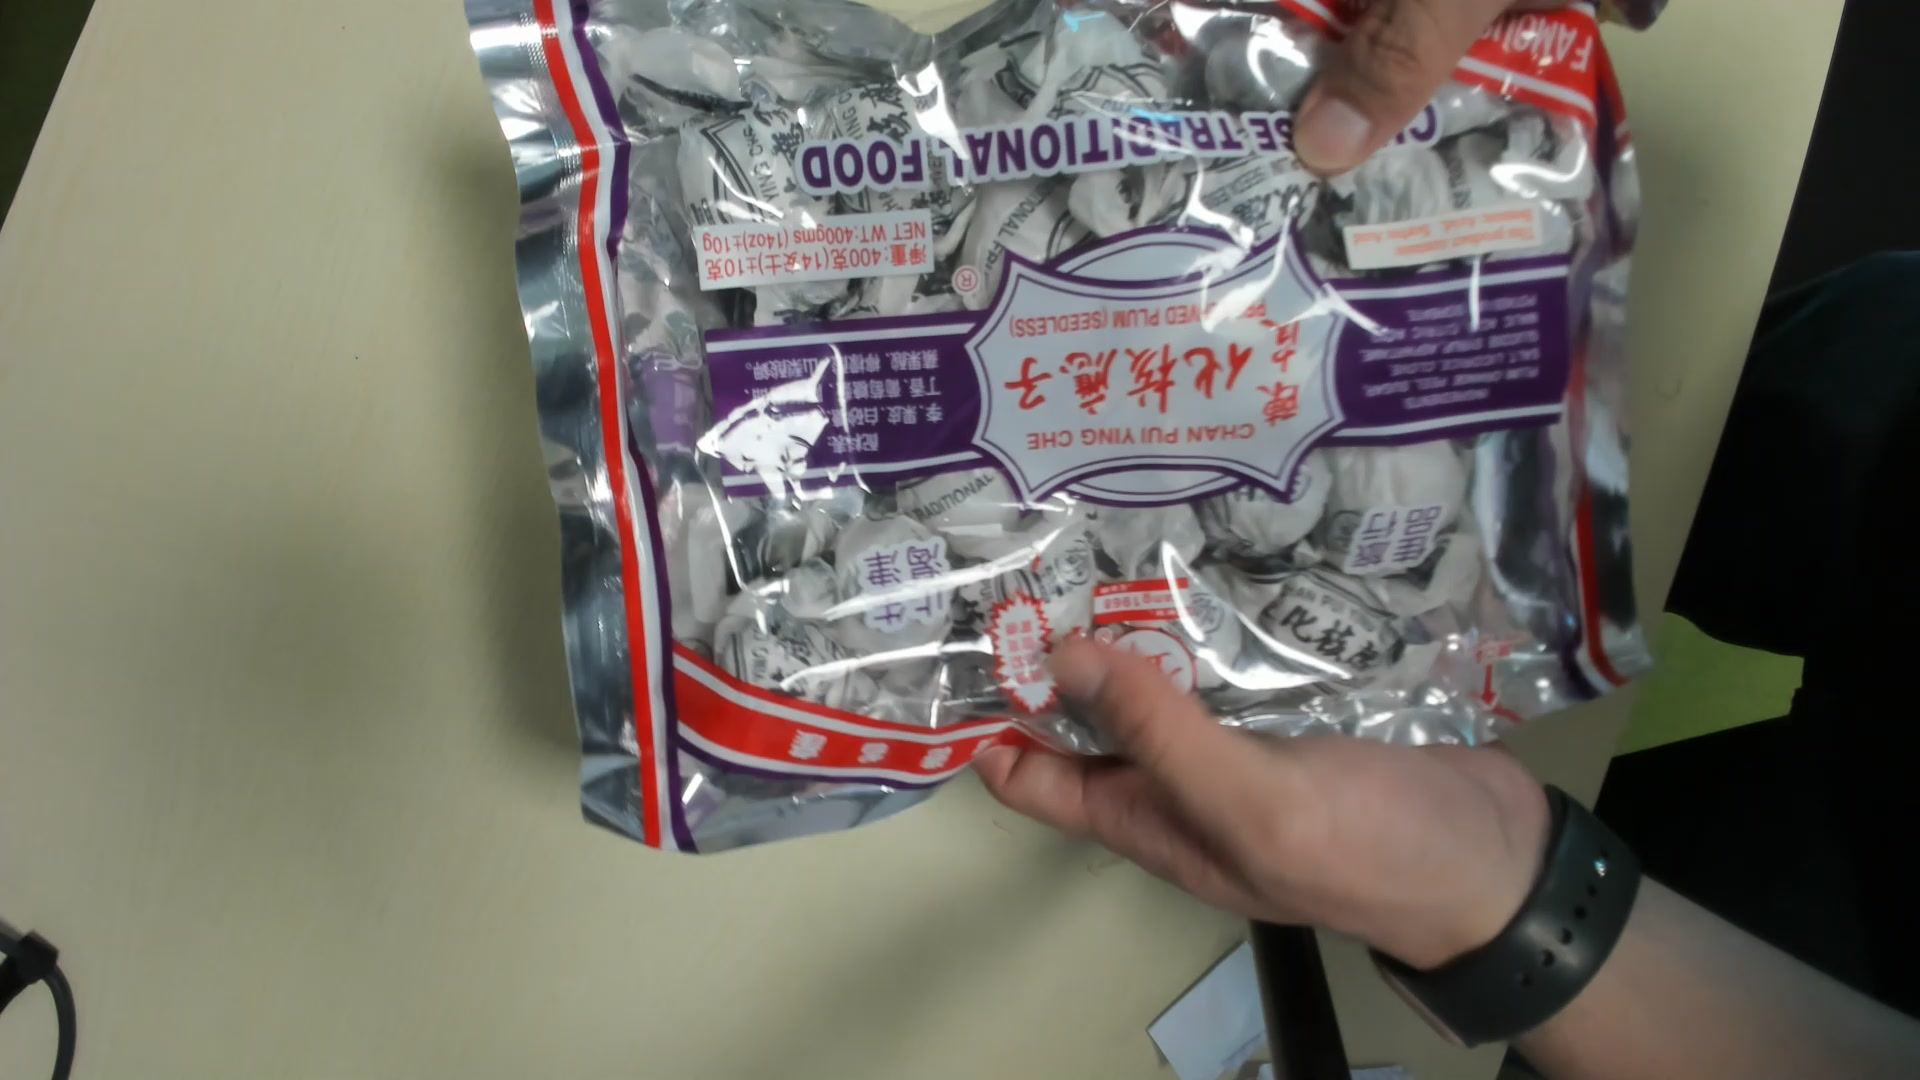SweetsChocolatesOthers_400-499g_NonHalal_Nonhealthy: (469, 12, 1662, 862)
